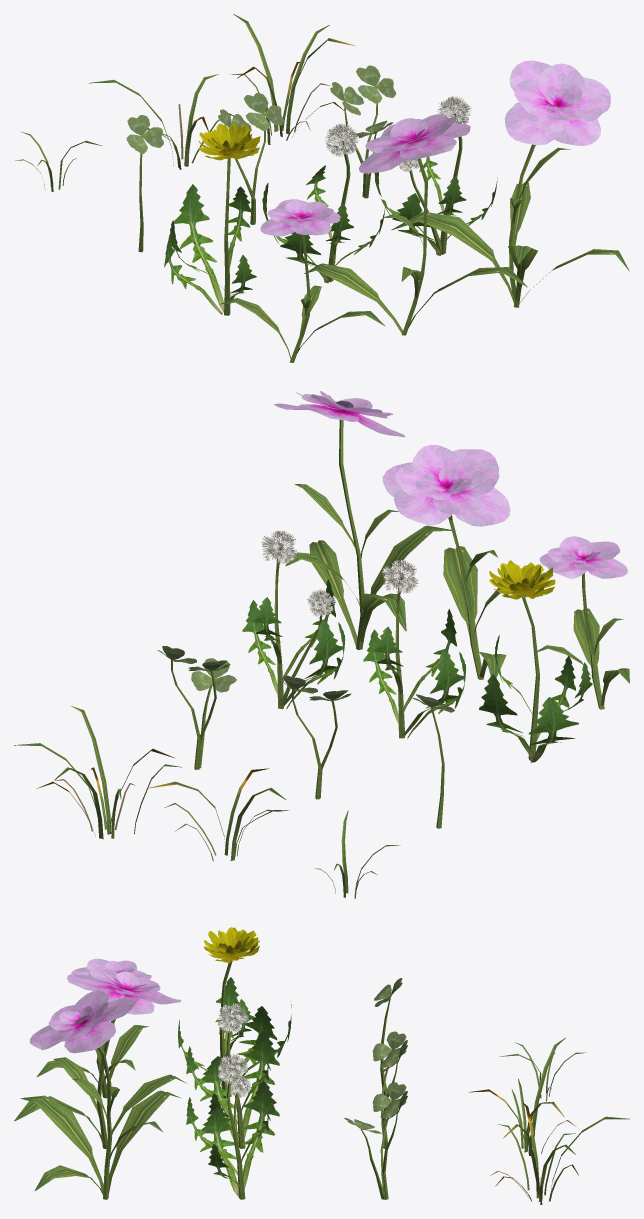
File: low_poly_plants.glb
3 renders of one model, top to bottom at view 1: azimuth 30°, elevation 25°; view 2: azimuth 150°, elevation 25°; view 3: azimuth 270°, elevation 25°, orthographic. The views are drawn at different scales.
Visible parts, largest first — view 1: Flower 3, Flower 2, Dandelion 1, Flower 1, Dandelion 3, Dandelion 2, Clover 3, Grass 3, Clover 2, Clover 1, Grass 2, Plane.016; view 2: Flower 2, Flower 3, Dandelion 1, Dandelion 3, Dandelion 2, Flower 1, Grass 3, Clover 3, Grass 2, Clover 2, Plane.016, Clover 1; view 3: Flower 3, Dandelion 3, Flower 2, Dandelion 1, Dandelion 2, Flower 1, Clover 3, Grass 3, Plane.016, Grass 2, Clover 2, Clover 1 (+1 smaller).
Part boxes in pixels (x1,y1,x2,y2): Flower 3: (391,60,629,307); Flower 2: (304,114,527,335); Dandelion 1: (164,123,260,315); Flower 1: (219,199,385,362); Dandelion 3: (374,96,497,255); Dandelion 2: (262,123,385,283); Clover 3: (330,65,396,198); Grass 3: (230,14,355,144); Clover 2: (218,93,284,224); Clover 1: (126,115,163,252); Grass 2: (88,74,233,169); Plane.016: (508,245,537,306); Flower 2: (382,444,510,679); Flower 3: (273,391,406,650); Dandelion 1: (479,560,592,762); Dandelion 3: (242,530,345,709); Dandelion 2: (363,560,466,738); Flower 1: (537,536,629,709); Grass 3: (14,706,182,839); Clover 3: (157,646,236,769); Grass 2: (146,768,288,861); Clover 2: (279,675,351,799); Plane.016: (361,525,455,649); Clover 1: (413,694,454,828); Flower 3: (29,990,181,1199); Dandelion 3: (186,1053,279,1199); Flower 2: (14,966,186,1148); Dandelion 1: (178,927,291,1098); Dandelion 2: (186,1003,279,1148); Flower 1: (37,958,151,1098); Clover 3: (344,1082,407,1199); Grass 3: (490,1103,629,1204); Plane.016: (21,1095,103,1196); Grass 2: (468,1037,576,1155); Clover 2: (372,1031,407,1148); Clover 1: (374,978,402,1095).
Size of the model in its own units: 9.7 by 5.84 by 15.4.
Materials: 1 (1 with a texture image).
